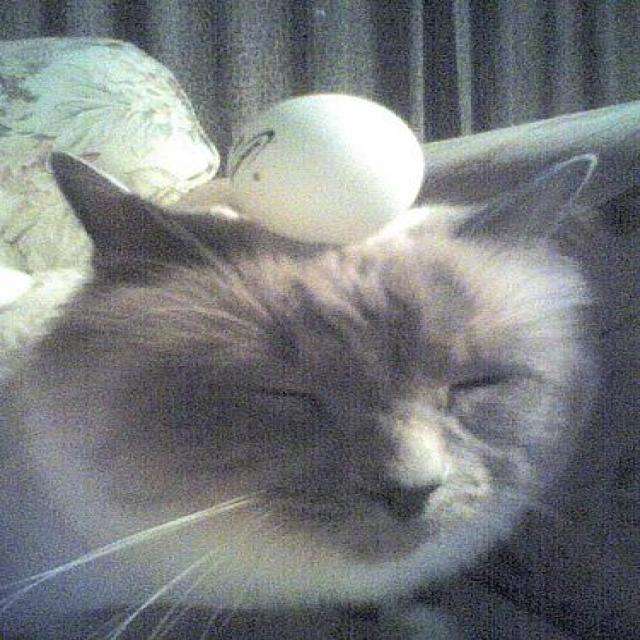ping-pong-ball: (224, 92, 428, 245)
